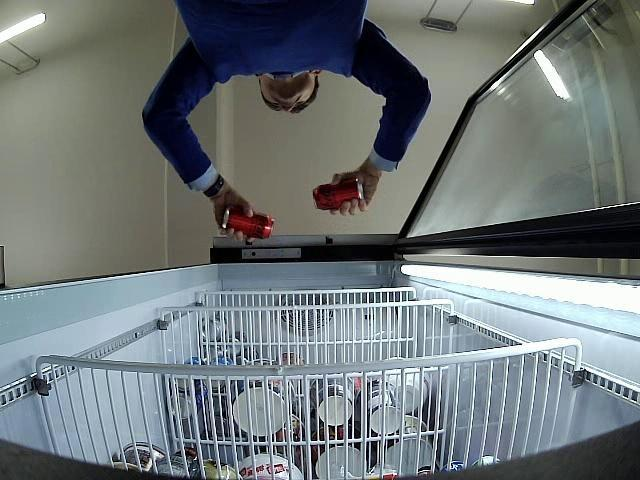11_cocaColaZero: (222, 208, 274, 238), (312, 180, 363, 210)
